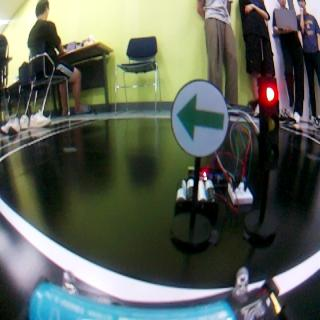left: (174, 90, 224, 157)
red: (259, 82, 275, 236)
